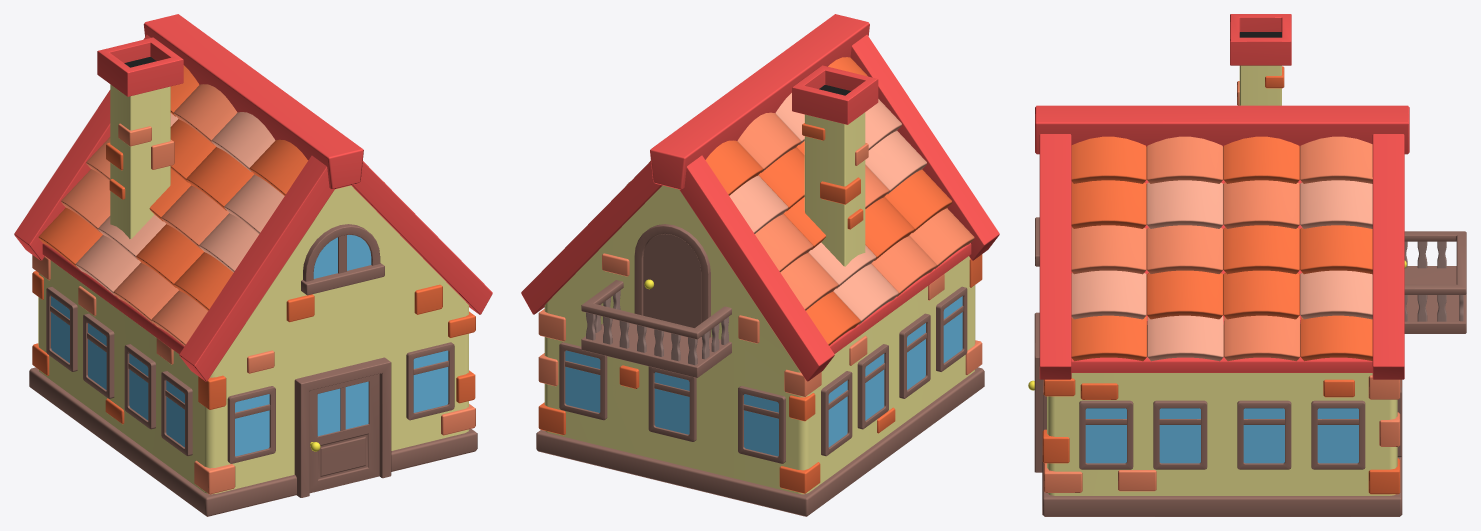
File: Town_14_House_1.glb
The picture shows the model from 3 angles, left to right: view 1: azimuth 30°, elevation 25°; view 2: azimuth 150°, elevation 25°; view 3: azimuth 270°, elevation 25°; orthographic projection.
Parts seen in each view (by area): view 1: Town_14_House_1; view 2: Town_14_House_1; view 3: Town_14_House_1.
Boxes of the visible parts, x1,y1,x2,y2 form: Town_14_House_1: (14,14,492,516); Town_14_House_1: (521,14,999,516); Town_14_House_1: (1028,14,1466,516).
Bounding box in the file's own units: 6.57 × 7.87 × 8.28.
Materials: 1 (1 with a texture image).
